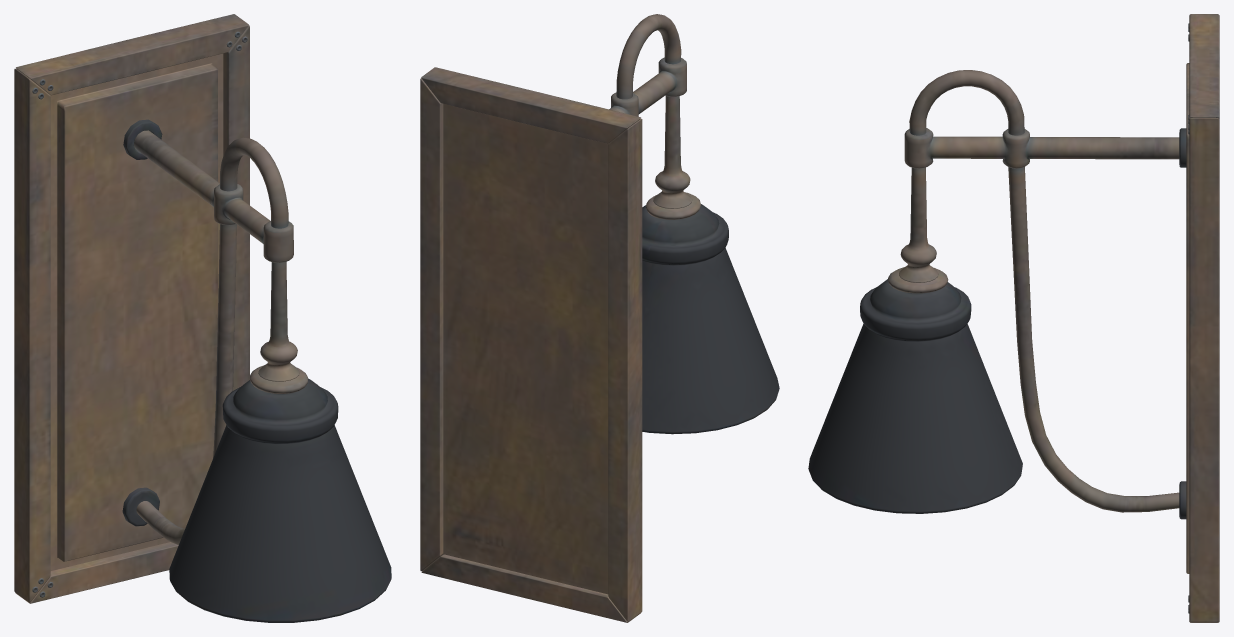
The model's file is industrial_wall_sconce.glb.
The picture shows the model from 3 angles, left to right: view 1: azimuth 30°, elevation 25°; view 2: azimuth 150°, elevation 25°; view 3: azimuth 270°, elevation 25°; orthographic projection. The views are drawn at different scales.
Visible parts, largest first — view 1: industrial_wall_sconce; view 2: industrial_wall_sconce; view 3: industrial_wall_sconce.
Boxes of the visible parts, x1=… form: industrial_wall_sconce: x1=14, y1=14, x2=391, y2=622; industrial_wall_sconce: x1=420, y1=14, x2=779, y2=622; industrial_wall_sconce: x1=808, y1=14, x2=1219, y2=622.
Bounding box in the file's own units: 0.1503 × 0.3418 × 0.2516.
Materials: 2 (2 with a texture image).
